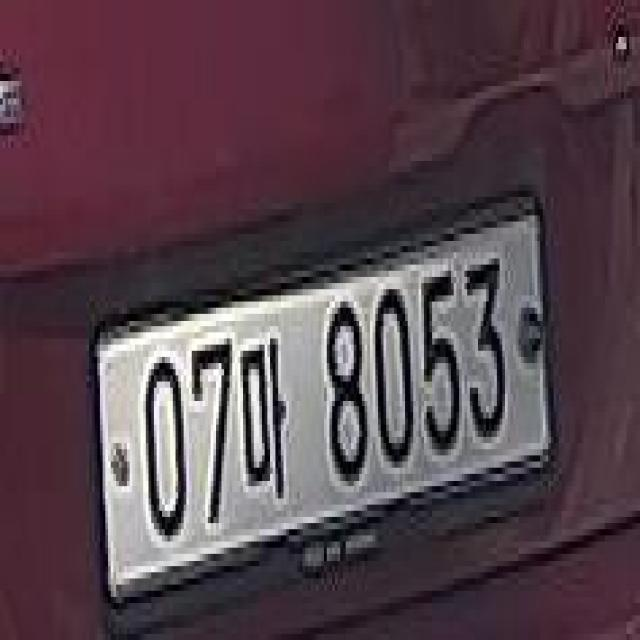illegal_plate: (86, 212, 559, 608)
